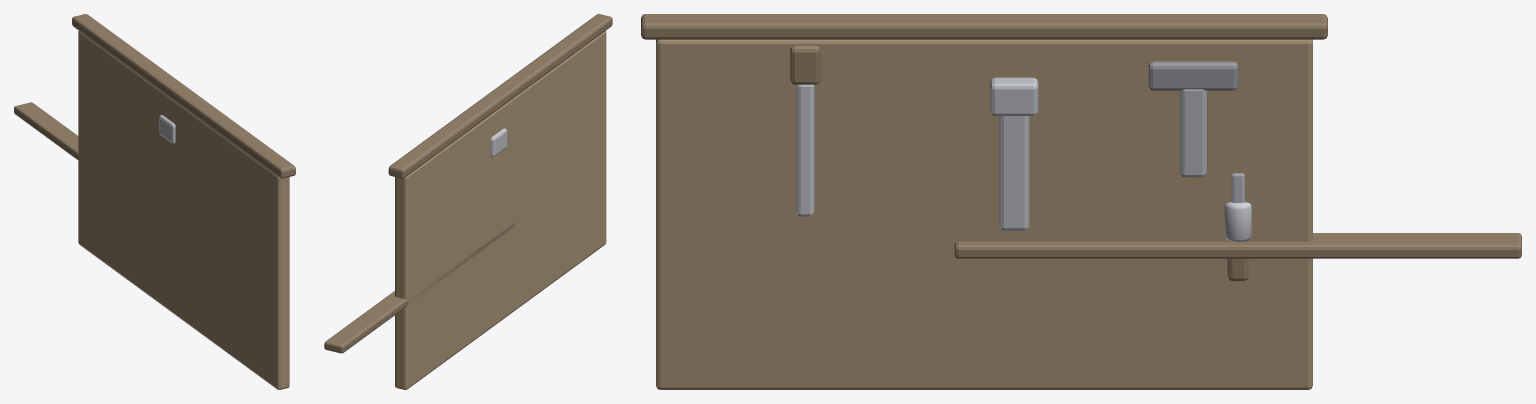
File: доска_инструментов.glb
3 renders of one model, left to right at view 1: azimuth 30°, elevation 25°; view 2: azimuth 150°, elevation 25°; view 3: azimuth 270°, elevation 25°, orthographic. The views are drawn at different scales.
Visible parts, largest first — view 1: доска_инструментов; view 2: доска_инструментов; view 3: доска_инструментов.
Boxes of the visible parts, box(x1,y1,x2,y2) form: доска_инструментов: box(14, 14, 295, 389); доска_инструментов: box(324, 14, 612, 389); доска_инструментов: box(641, 14, 1521, 389).
Size of the model in its own units: 0.16 by 1.36 by 2.95.
